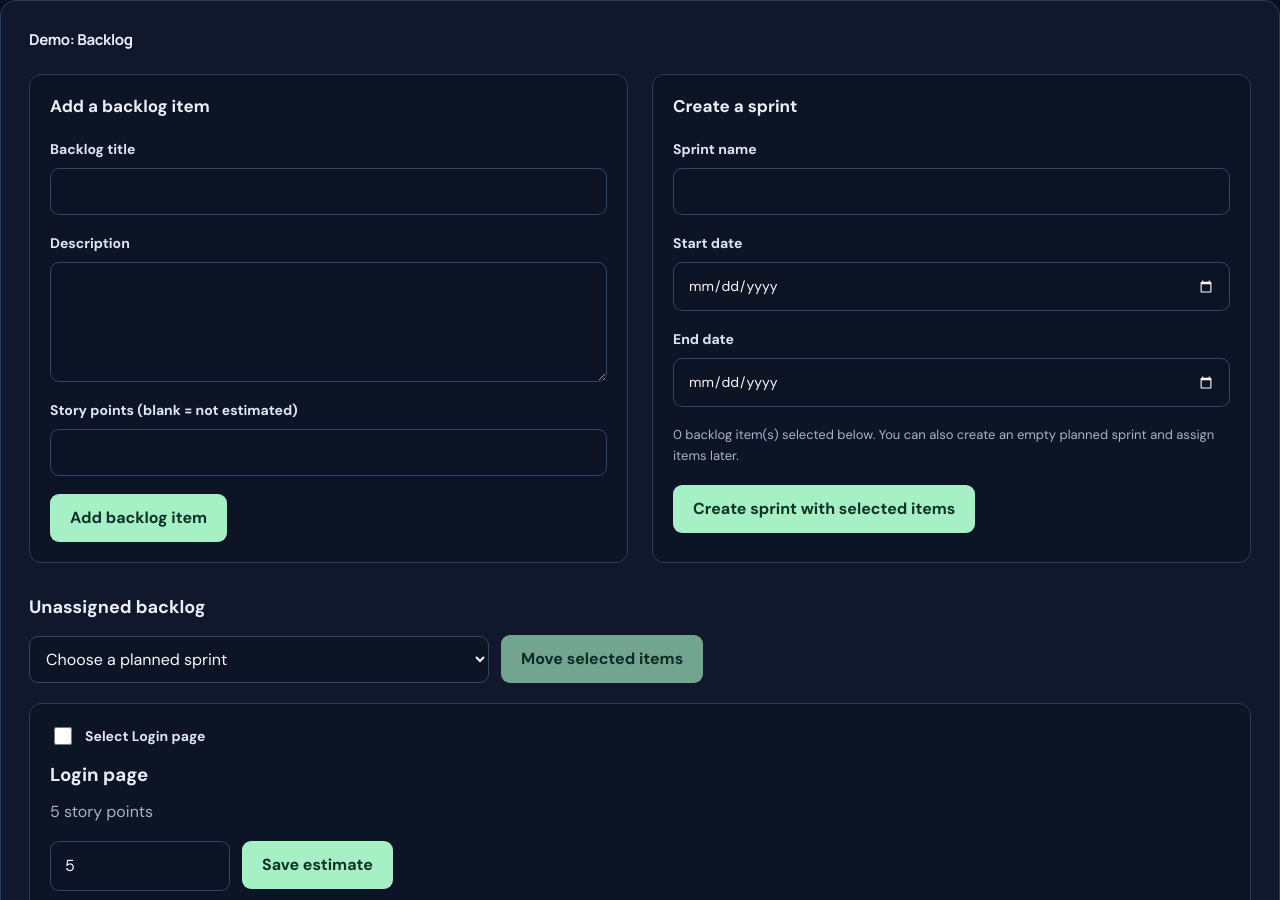
Scenario: estimate change is saved and refreshed
The width and height of the screenshot is (1280, 900).
Check: the heading "Demo: Backlog" is shown, box [29,29,133,50]
Replace the text in the number field named "Story points for Login page" with "8" at point(140, 866), box [50,841,230,891]
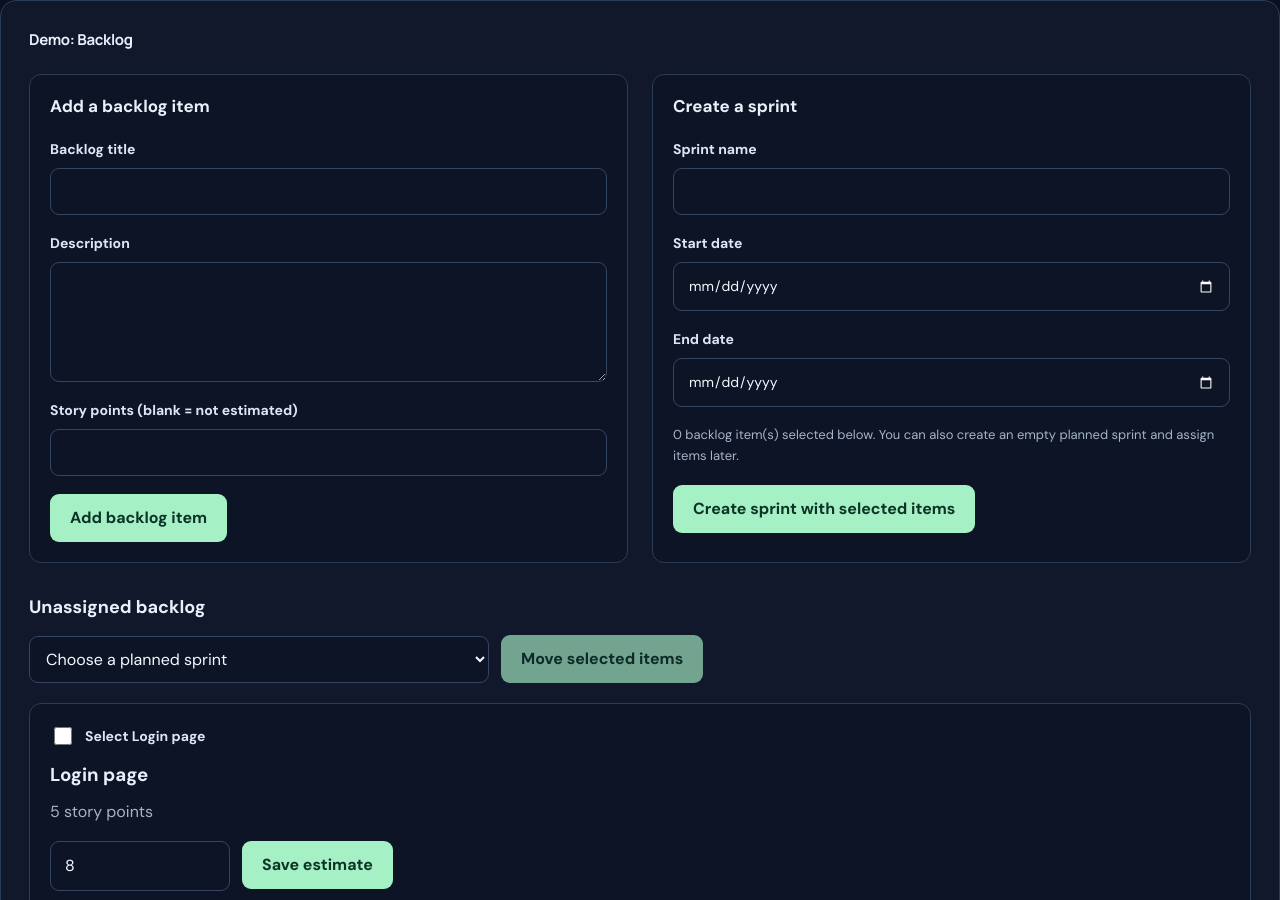
Click the button "Save estimate" at point(317, 865), box [242,841,393,889]
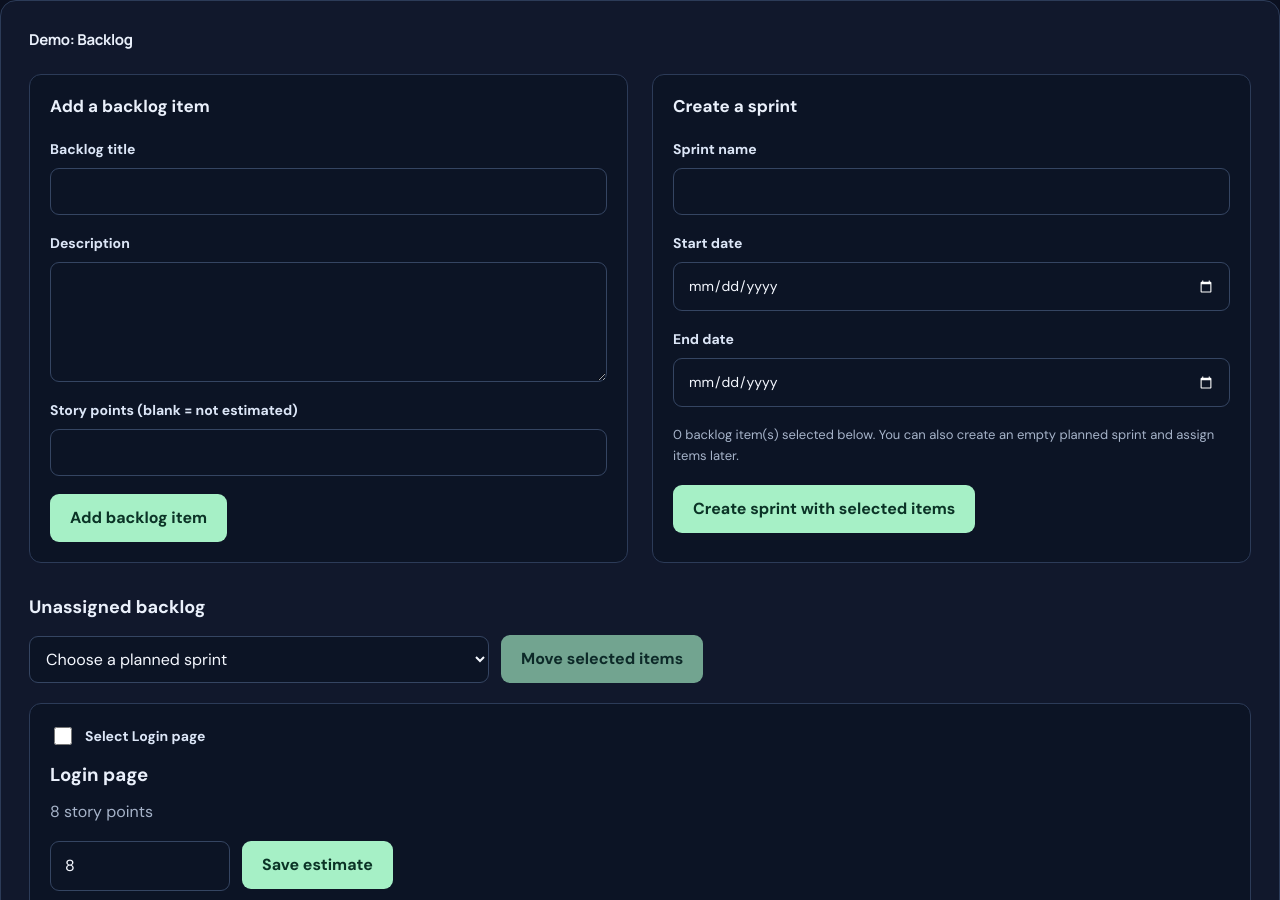
Check: the text "8 story points" is shown, box [50,801,153,822]
